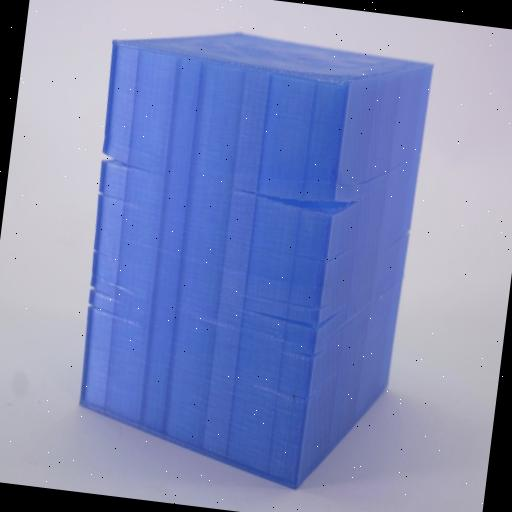cracks: (240, 178, 366, 228), (248, 292, 340, 338), (76, 282, 149, 334), (93, 141, 158, 188)
